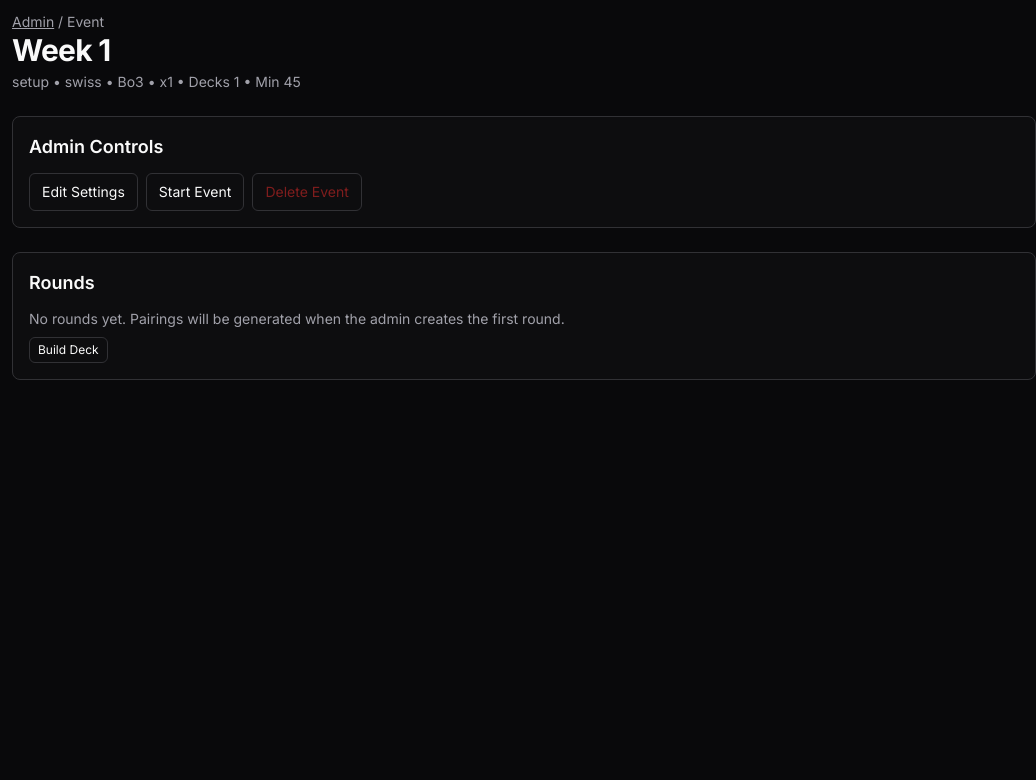
Test case: EventDetailPage › shows a pick-40-or-60 option for historical minDeckSize
Expected: the heading "Week 1" is shown, 12,32 -> 110,68
Click the button "Edit Settings". click: (83, 192)
box: 29,173 -> 138,211
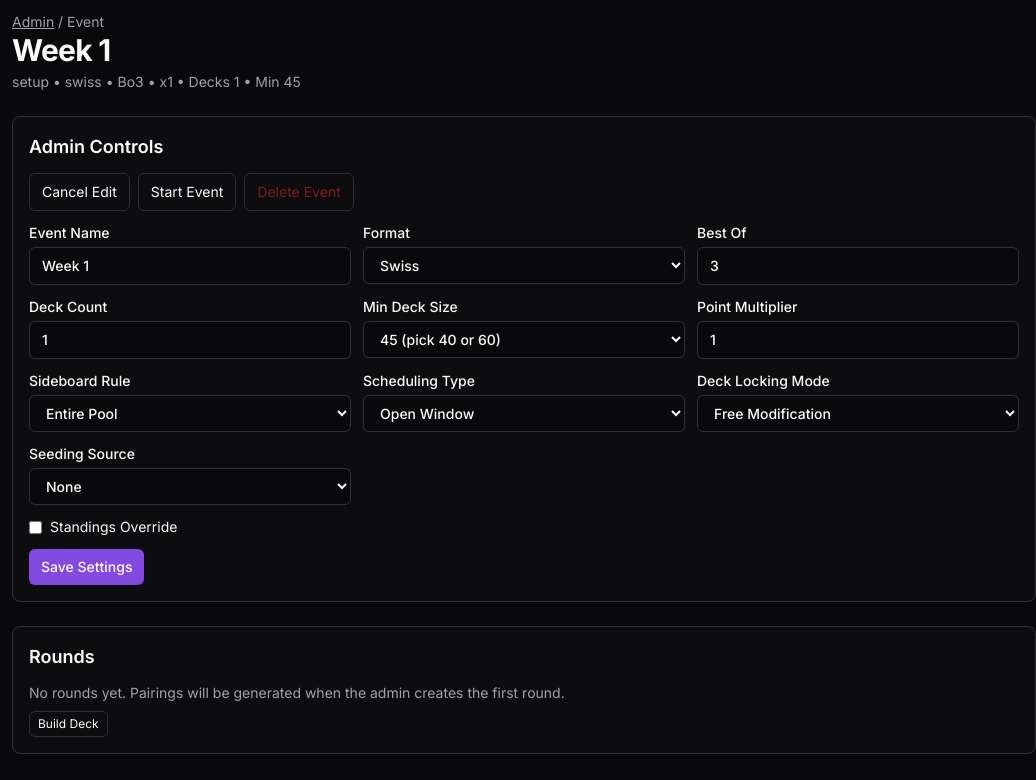
Expected: the dropdown with test id "min-deck-size-select" shows "45 (pick 40 or 60)", 363,321 -> 685,358
